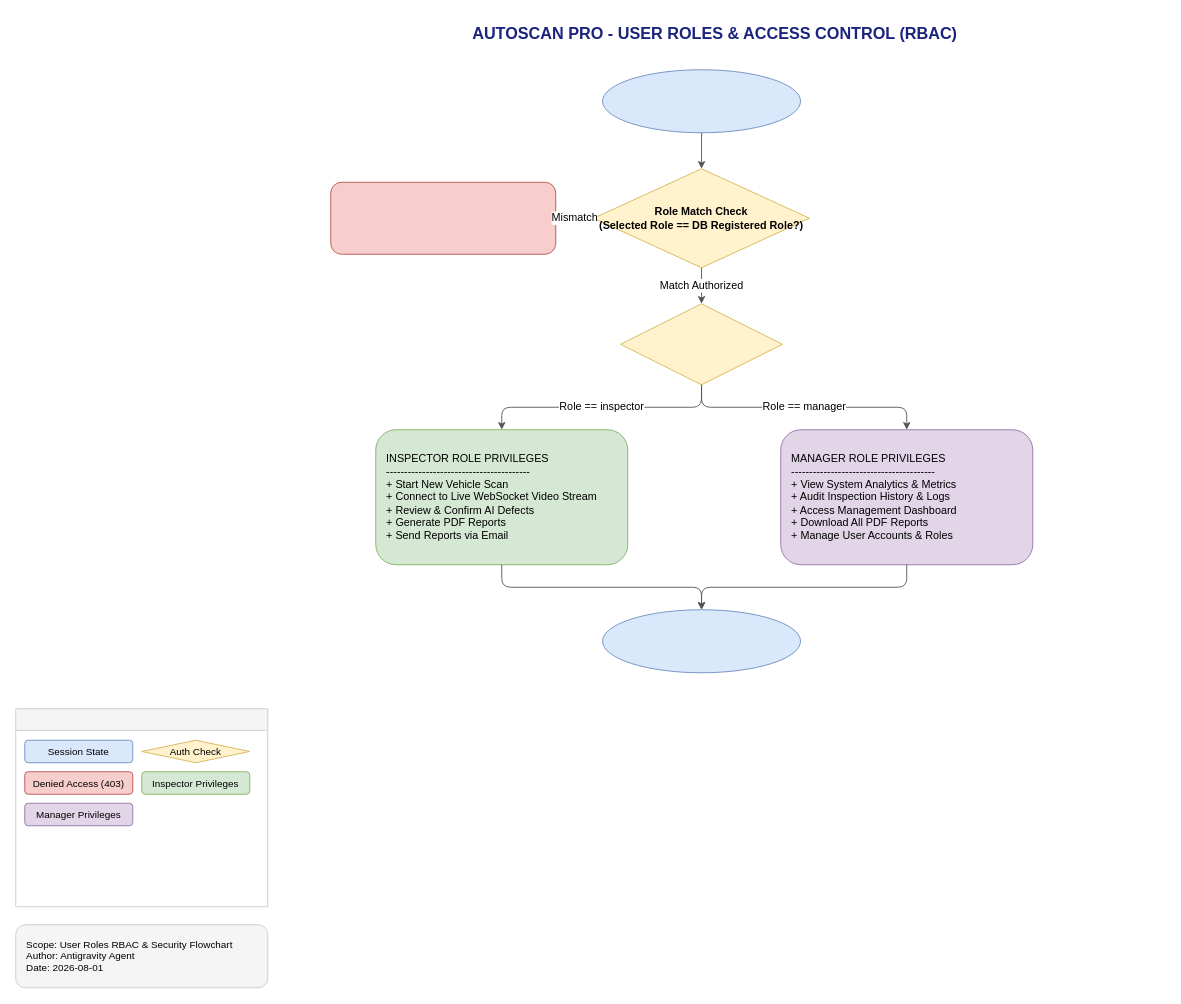
The diagram is 1181 pixels wide and 1004 high, and some of its shapes have lost their labels. Each missing label, with the box of its shape:
403 Forbidden Response "Access denied: Account registered as [Role]": (330, 181, 556, 254)
Active JWT Session Created (Session Invalidation on Logout): (602, 609, 801, 673)
LEGEND: (15, 708, 268, 907)
User Login Attempt (Selected Role: Inspector or Manager): (602, 69, 801, 133)
User Role Routing: (620, 303, 783, 385)
